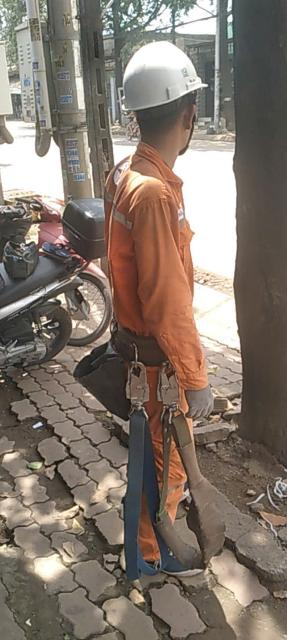gloves: (174, 378, 227, 427)
harness: (92, 314, 196, 375)
helmet: (117, 25, 221, 113)
shoes: (120, 521, 216, 586)
